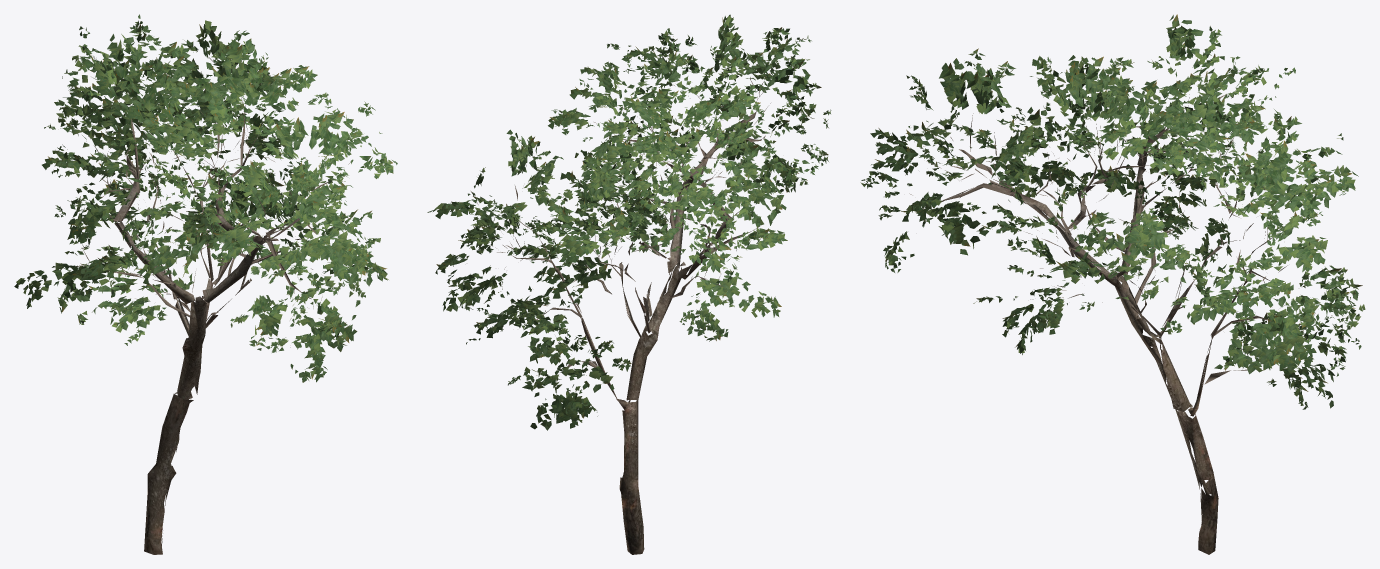
The model's file is veg-tree-sapling-lod0-f69a94b14e61.glb.
3 renders of one model, left to right at view 1: azimuth 30°, elevation 25°; view 2: azimuth 150°, elevation 25°; view 3: azimuth 270°, elevation 25°, orthographic. The views are drawn at different scales.
Parts seen in each view (by area): view 1: veg-tree-sapling_lod0; view 2: veg-tree-sapling_lod0; view 3: veg-tree-sapling_lod0.
Part boxes in pixels (left/top/right/bottom): veg-tree-sapling_lod0: left=14, top=14, right=397, bottom=554; veg-tree-sapling_lod0: left=427, top=14, right=831, bottom=554; veg-tree-sapling_lod0: left=860, top=14, right=1365, bottom=554.
Size of the model in its own units: 3.08 by 4.8 by 4.39.
3 materials, 3 textured.
